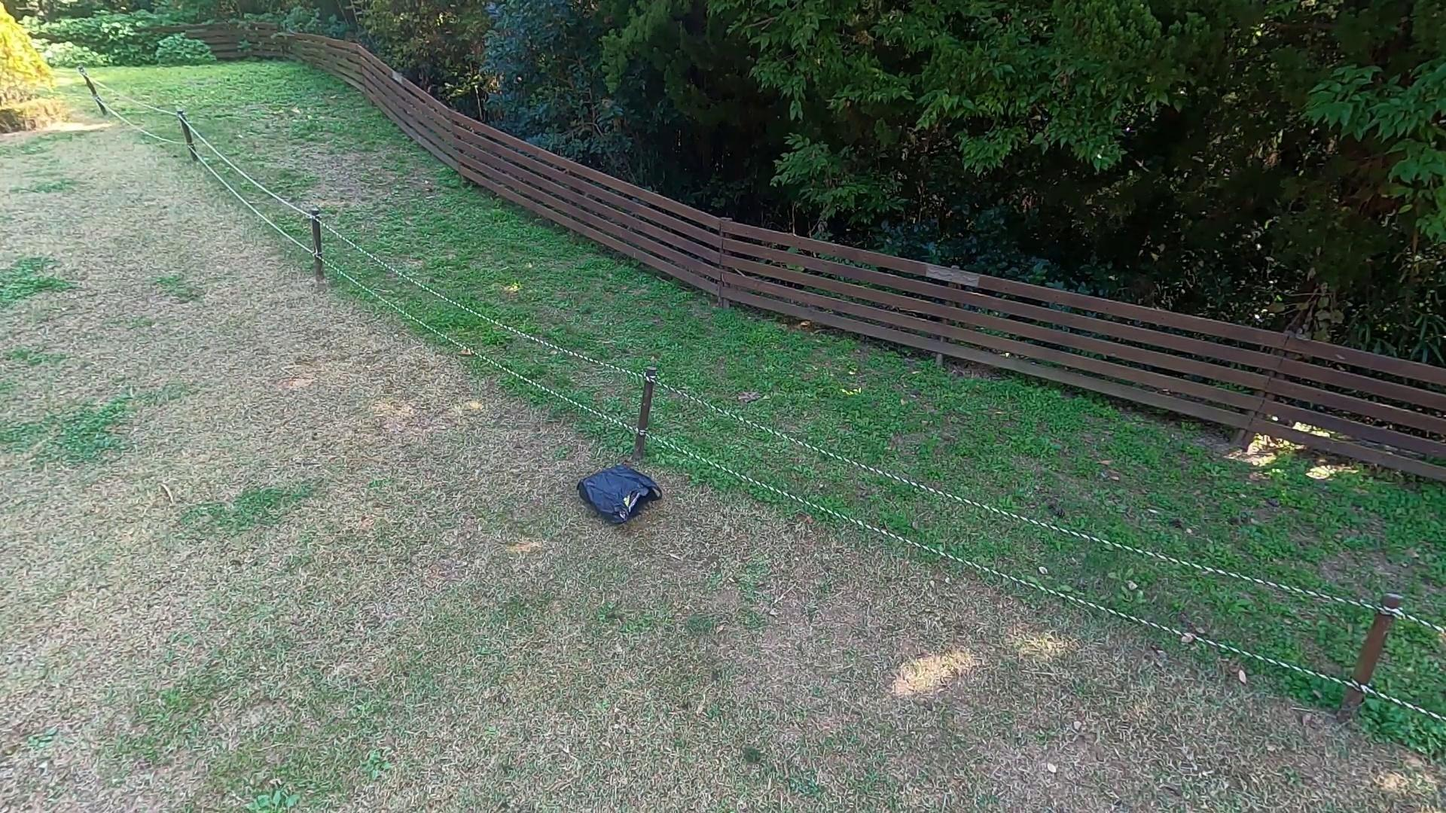trash: (577, 459, 663, 528)
